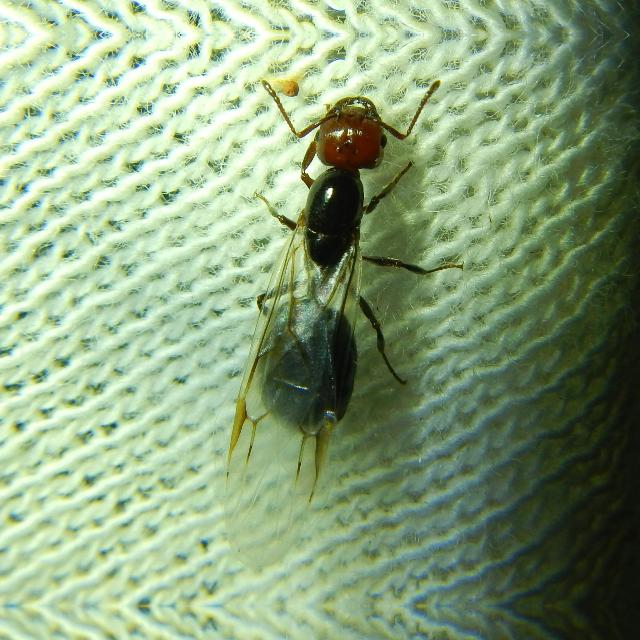Crematogaster: (182, 58, 446, 488)
